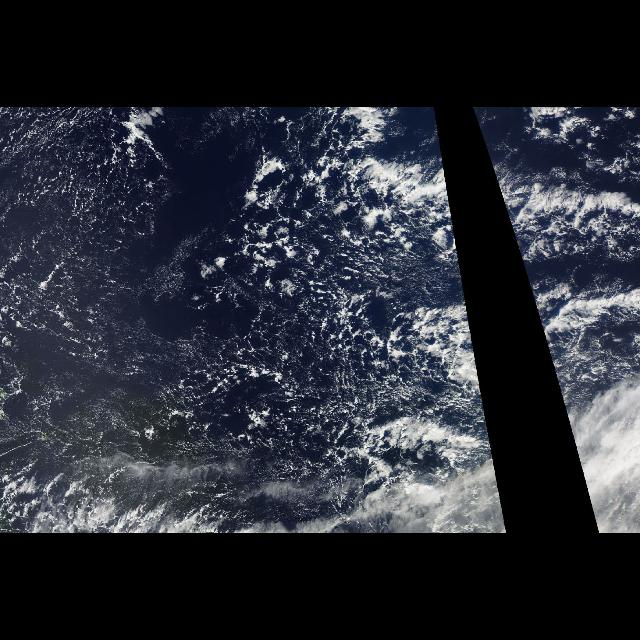Fish: (294, 138, 462, 276), (480, 138, 640, 276), (529, 284, 639, 428), (402, 284, 488, 428)
Gravel: (0, 107, 448, 483)
Sugar: (2, 237, 180, 463)
